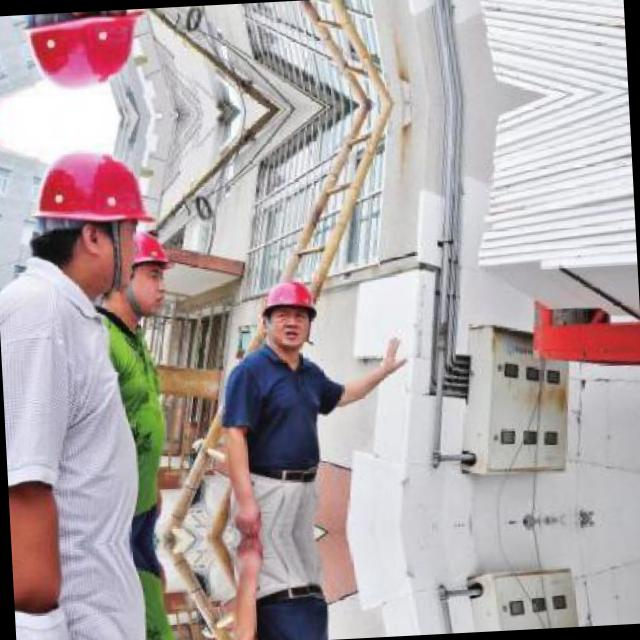helmet: (27, 136, 162, 302), (21, 8, 153, 102), (254, 270, 326, 358), (121, 222, 175, 312)
